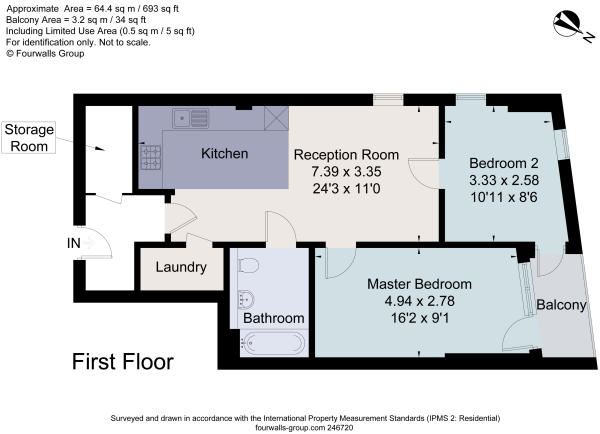GardenMeasurements: (537, 296, 586, 316)
GrossArea: (5, 4, 183, 14)
